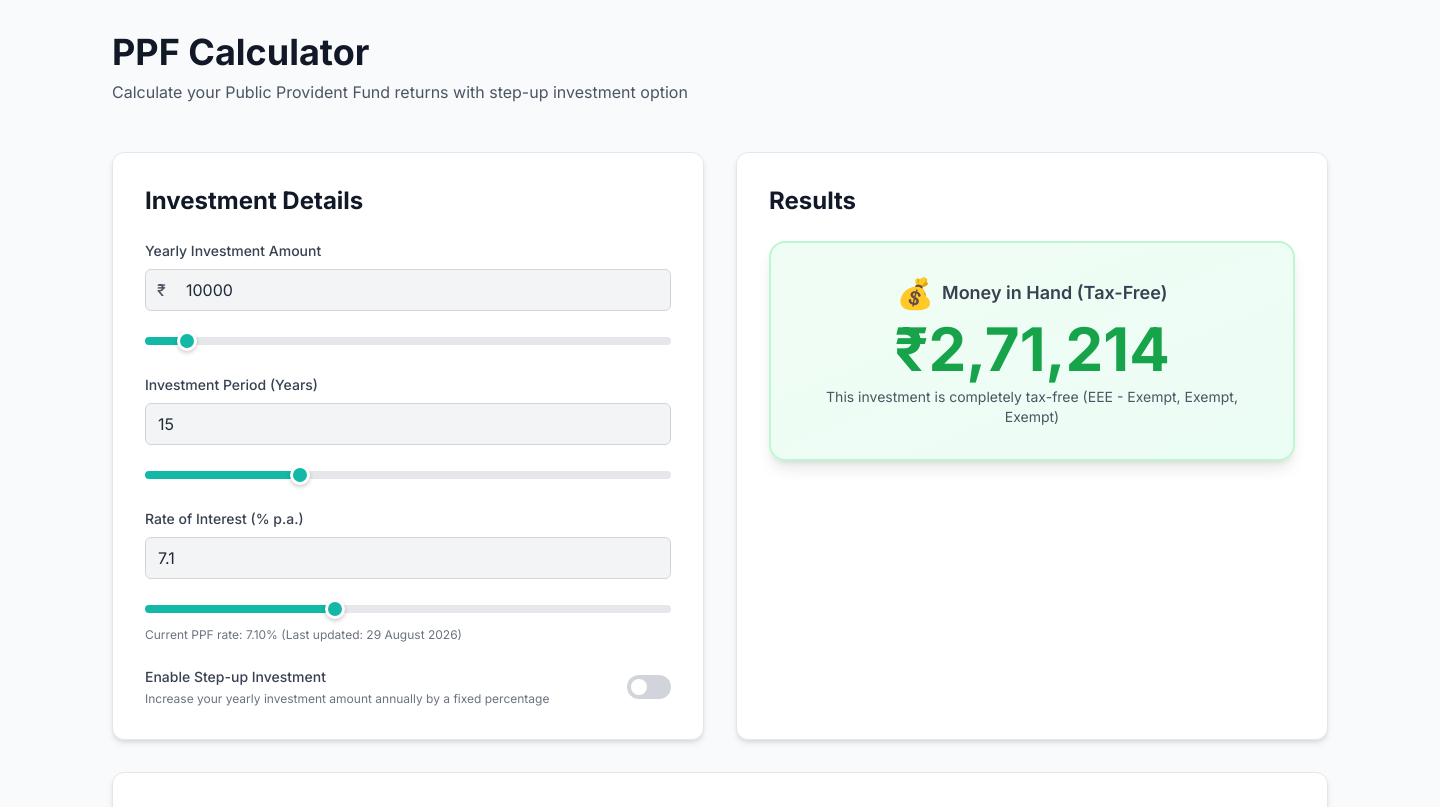
Test case: PPF Calculator › PPF-08 / PPF-21 — Minimum Investment Validation › PPF-21: should accept minimum investment of ₹500
Type "500" into the 1st number field at (408, 290), box [145,269,671,311]
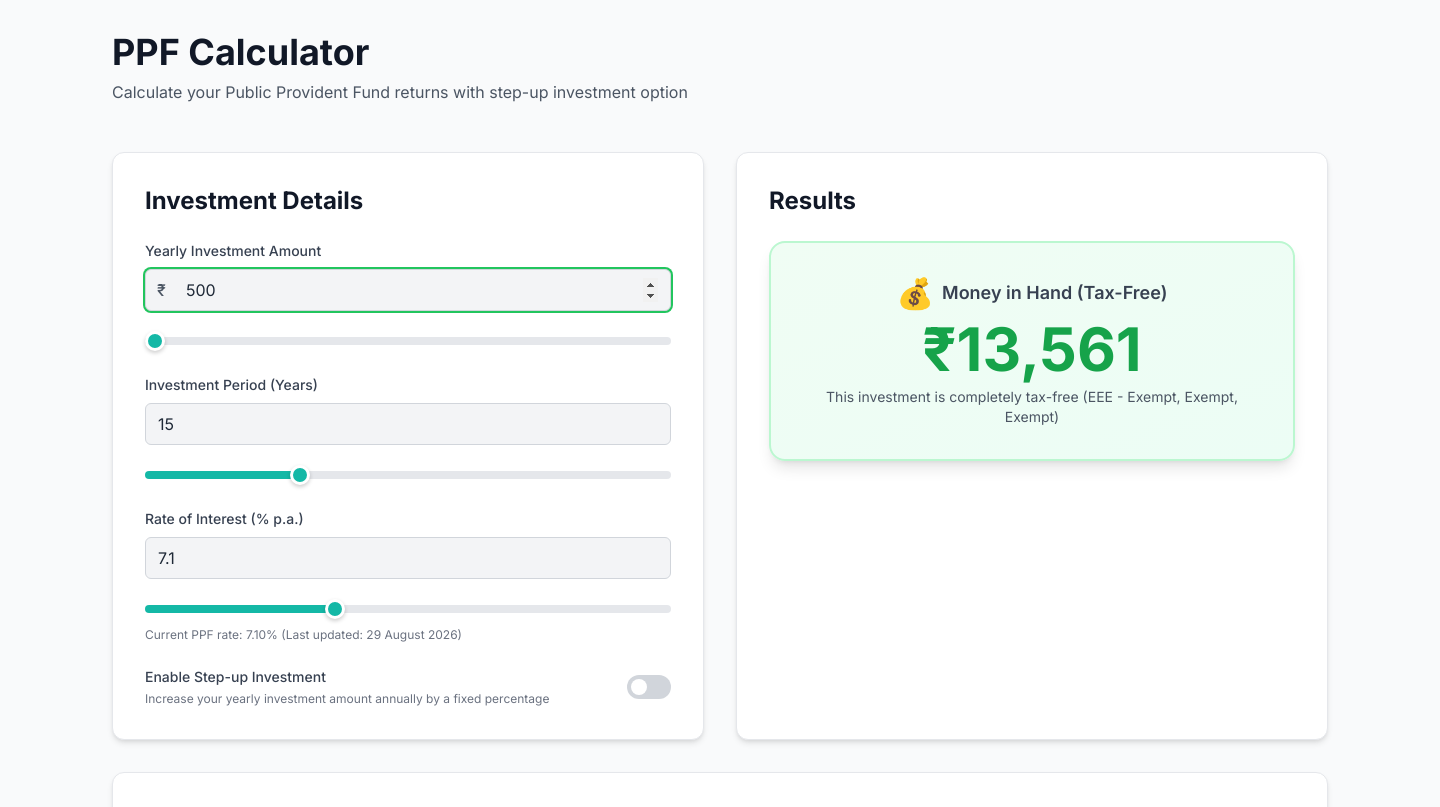
Now the text "Minimum investment is" is gone
